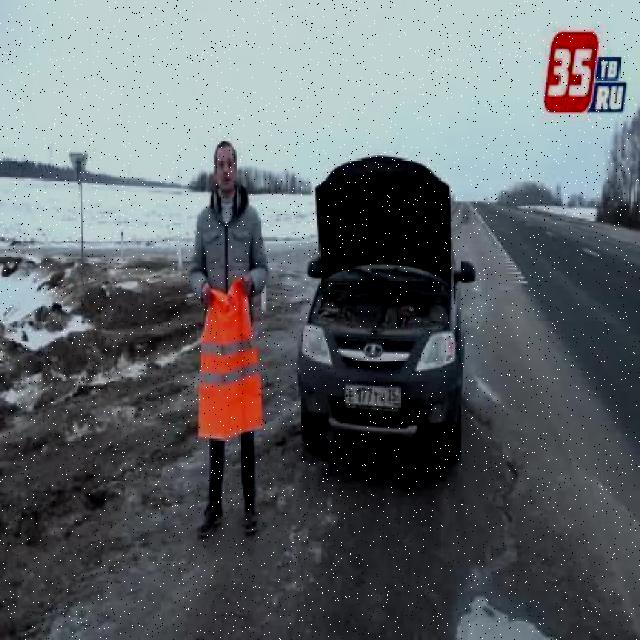Mask: (198, 273, 264, 444)
